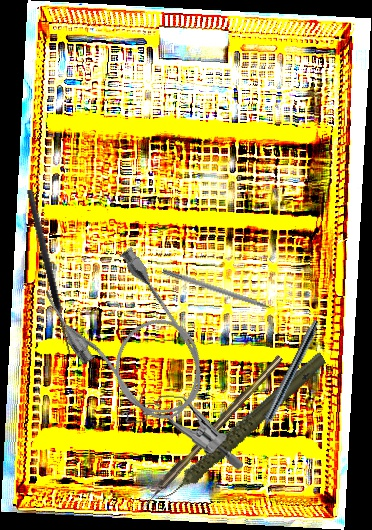Cannula: (36, 236, 226, 443)
Handpiece: (133, 350, 348, 504), (251, 317, 322, 443)
Hook Surgical: (137, 354, 285, 511), (24, 187, 84, 360), (161, 268, 286, 317)
Speculum: (118, 390, 247, 471)
